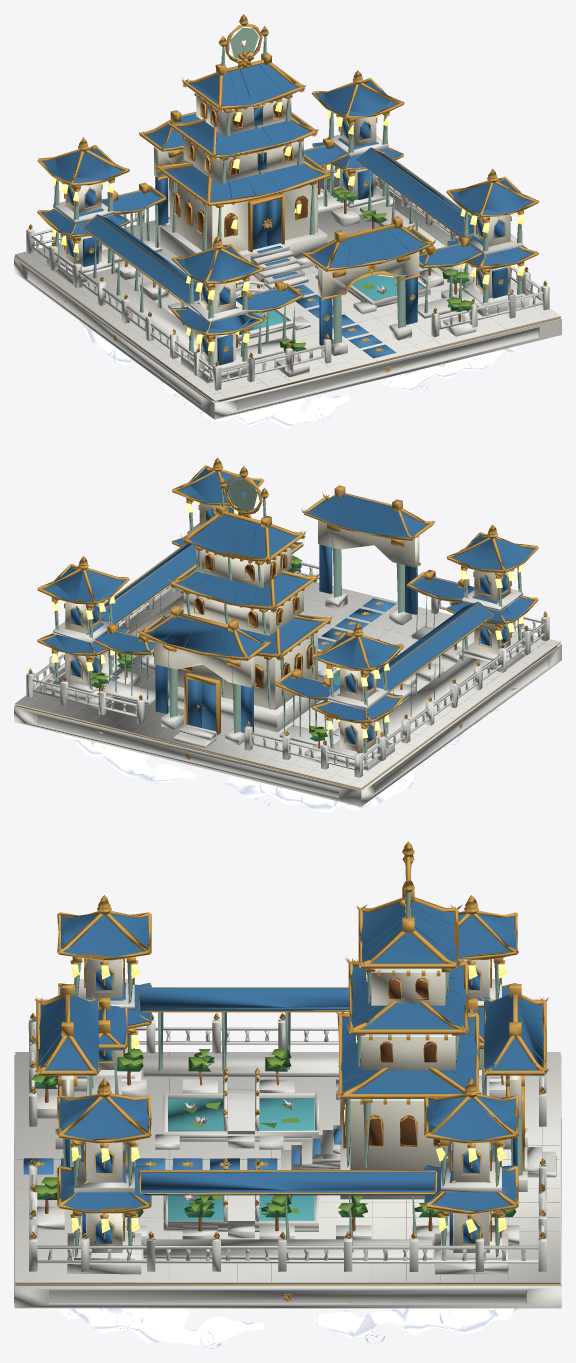
File: city-6-lod2-929a5c7592b8.glb
3 renders of one model, top to bottom at view 1: azimuth 30°, elevation 25°; view 2: azimuth 150°, elevation 25°; view 3: azimuth 270°, elevation 25°, orthographic. The views are drawn at different scales.
Visible parts, largest first — view 1: SM_CT6_V4_Batch_0.004, SM_CT6_V4_Batch_34.004, SM_CT6_V4_Batch_152.004, SM_CT6_V4_Batch_31.004, SM_CT6_V4_Batch_29.004, SM_CT6_V4_Batch_171.004, SM_CT6_V4_Batch_146.004, SM_CT6_V4_Batch_32.004, SM_CT6_V4_Batch_6.004, SM_CT6_V4_Batch_128.004, SM_CT6_V4_Batch_1.004, SM_CT6_V4_Batch_142.004 (+1 smaller); view 2: SM_CT6_V4_Batch_0.004, SM_CT6_V4_Batch_34.004, SM_CT6_V4_Batch_152.004, SM_CT6_V4_Batch_31.004, SM_CT6_V4_Batch_29.004, SM_CT6_V4_Batch_171.004, SM_CT6_V4_Batch_146.004, SM_CT6_V4_Batch_32.004, SM_CT6_V4_Batch_6.004, SM_CT6_V4_Batch_1.004, SM_CT6_V4_Batch_3.004; view 3: SM_CT6_V4_Batch_0.004, SM_CT6_V4_Batch_34.004, SM_CT6_V4_Batch_152.004, SM_CT6_V4_Batch_31.004, SM_CT6_V4_Batch_171.004, SM_CT6_V4_Batch_29.004, SM_CT6_V4_Batch_128.004, SM_CT6_V4_Batch_146.004, SM_CT6_V4_Batch_141.004, SM_CT6_V4_Batch_32.004, SM_CT6_V4_Batch_142.004, SM_CT6_V4_Batch_6.004 (+3 smaller).
Part boxes in pixels (box(x1,y1,x2,y2)): SM_CT6_V4_Batch_0.004: box(14, 134, 561, 419); SM_CT6_V4_Batch_34.004: box(41, 63, 533, 365); SM_CT6_V4_Batch_152.004: box(28, 14, 547, 387); SM_CT6_V4_Batch_31.004: box(65, 95, 510, 365); SM_CT6_V4_Batch_29.004: box(54, 27, 522, 370); SM_CT6_V4_Batch_171.004: box(71, 315, 516, 428); SM_CT6_V4_Batch_146.004: box(228, 64, 410, 358); SM_CT6_V4_Batch_32.004: box(51, 102, 524, 351); SM_CT6_V4_Batch_6.004: box(175, 101, 307, 236); SM_CT6_V4_Batch_128.004: box(236, 274, 423, 330); SM_CT6_V4_Batch_1.004: box(15, 256, 560, 401); SM_CT6_V4_Batch_142.004: box(261, 188, 471, 347); SM_CT6_V4_Batch_0.004: box(14, 523, 561, 806); SM_CT6_V4_Batch_34.004: box(42, 468, 534, 744); SM_CT6_V4_Batch_152.004: box(28, 457, 547, 771); SM_CT6_V4_Batch_31.004: box(65, 503, 510, 752); SM_CT6_V4_Batch_29.004: box(54, 479, 521, 757); SM_CT6_V4_Batch_171.004: box(61, 703, 503, 812); SM_CT6_V4_Batch_146.004: box(162, 516, 395, 660); SM_CT6_V4_Batch_32.004: box(51, 501, 524, 738); SM_CT6_V4_Batch_6.004: box(184, 554, 312, 688); SM_CT6_V4_Batch_1.004: box(15, 646, 557, 790); SM_CT6_V4_Batch_3.004: box(24, 586, 549, 784); SM_CT6_V4_Batch_0.004: box(14, 979, 561, 1308); SM_CT6_V4_Batch_34.004: box(38, 901, 543, 1249); SM_CT6_V4_Batch_152.004: box(30, 841, 548, 1301); SM_CT6_V4_Batch_31.004: box(61, 958, 521, 1252); SM_CT6_V4_Batch_171.004: box(48, 1308, 520, 1346); SM_CT6_V4_Batch_29.004: box(63, 864, 522, 1257); SM_CT6_V4_Batch_128.004: box(168, 1098, 314, 1220); SM_CT6_V4_Batch_146.004: box(23, 904, 544, 1174); SM_CT6_V4_Batch_141.004: box(37, 1049, 515, 1217); SM_CT6_V4_Batch_32.004: box(71, 964, 506, 1232); SM_CT6_V4_Batch_142.004: box(31, 1049, 515, 1217); SM_CT6_V4_Batch_6.004: box(368, 977, 439, 1145).
Bounding box in the file's own units: 10 × 8.35 × 10.
19 materials, 4 textured.
